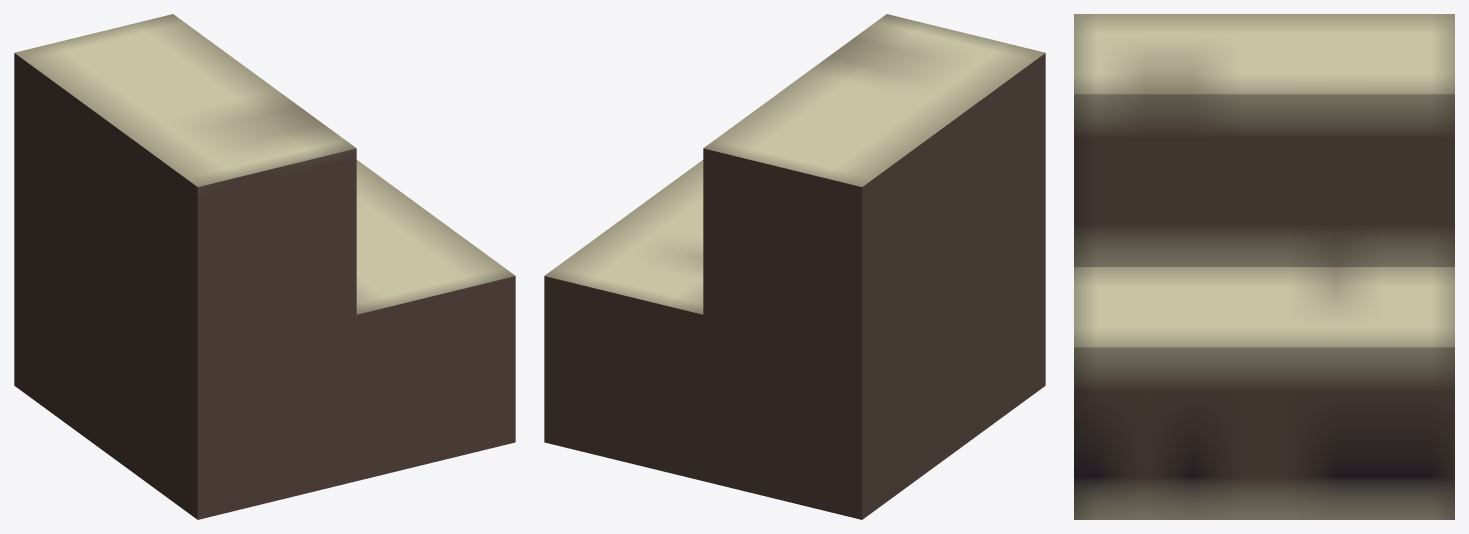
File: stair2.fbx
3 renders of one model, left to right at view 1: azimuth 30°, elevation 25°; view 2: azimuth 150°, elevation 25°; view 3: azimuth 270°, elevation 25°, orthographic. The views are drawn at different scales.
Parts seen in each view (by area): view 1: Stair2; view 2: Stair2; view 3: Stair2.
Boxes of the visible parts, x1,y1,x2,y2 form: Stair2: (14, 14, 515, 519); Stair2: (544, 14, 1045, 519); Stair2: (1074, 14, 1454, 519).
Bounding box in the file's own units: 200 × 200 × 200.
